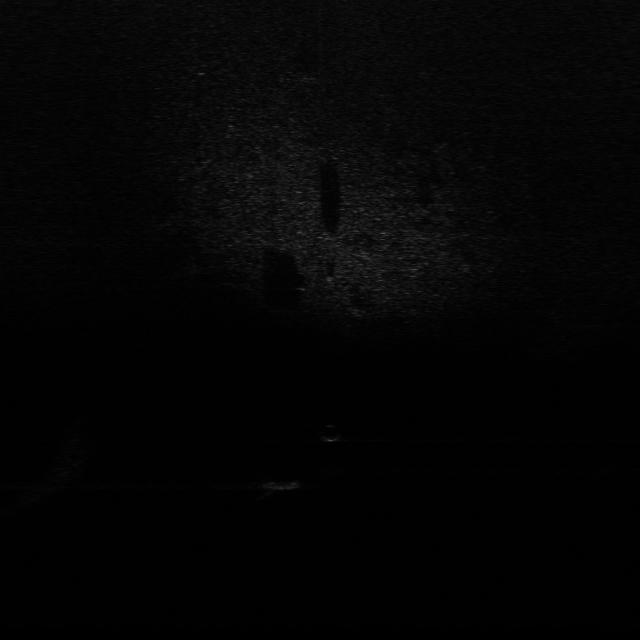ball: (317, 422, 344, 443)
square cage: (250, 474, 310, 493)
